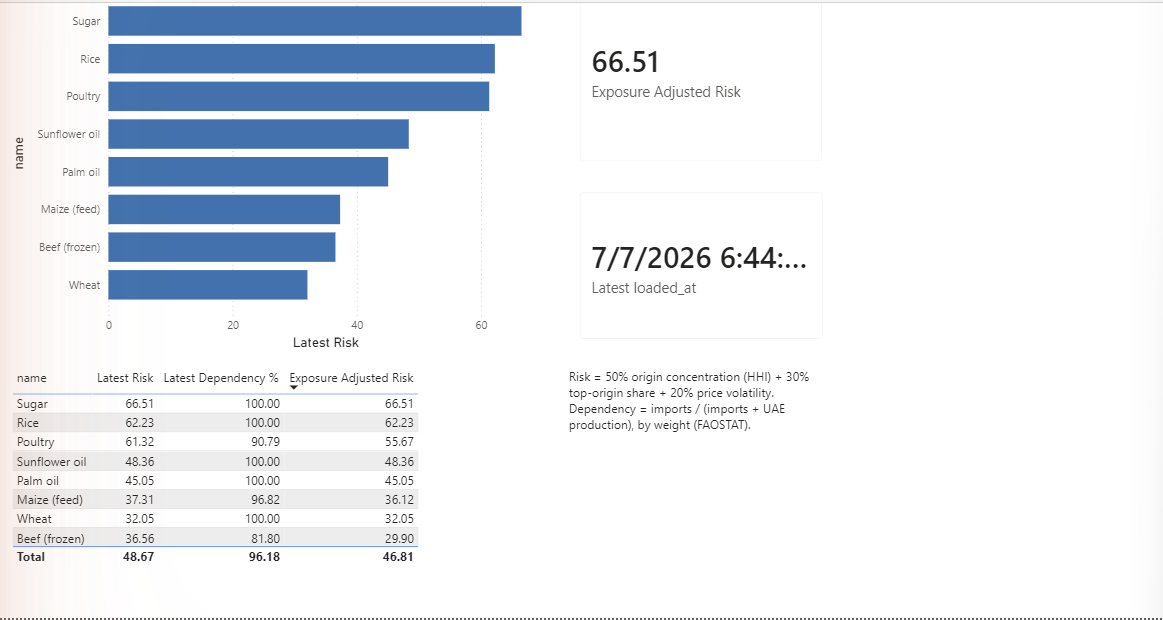

The page's visual inventory and layout, read from the dashboard file:
{"tool":"powerbi","page":{"name":"Risk Overview","canvas":[1280,720],"ordinal":0},"visuals":[{"type":"clusteredBarChart","fields":{"Category":["commodities.name"],"Y":["commodities.Latest Risk"]},"box":[9.6,0,601,430.9],"z":0},{"type":"tableEx","fields":{"Values":["commodities.name","commodities.Latest Risk","commodities.Latest Dependency %","commodities.Exposure Adjusted Risk"]},"box":[10,441,601,279],"z":1},{"type":"cardVisual","fields":{"Data":["commodities.Exposure Adjusted Risk"]},"box":[621.6,0,300.5,236],"z":2},{"type":"cardVisual","fields":{"Data":["Max(data_provenance.loaded_at)"]},"box":[622,236,301,195],"z":3},{"type":"textbox","box":[622,441,301,279],"z":4}]}

Visuals, with their boxes on the page's 1280x720 design canvas (x1, y1, x2, y2). These are canvas units, not pixel positions in the 1163x620 screenshot, which may show the page scaled, cropped or inside an application window:
clusteredBarChart - commodities.name x commodities.Latest Risk: box=[10, 0, 611, 431]
tableEx - commodities.name x commodities.Latest Risk: box=[10, 441, 611, 720]
cardVisual - commodities.Exposure Adjusted Risk: box=[622, 0, 922, 236]
cardVisual - Max(data_provenance.loaded_at): box=[622, 236, 923, 431]
textbox: box=[622, 441, 923, 720]
